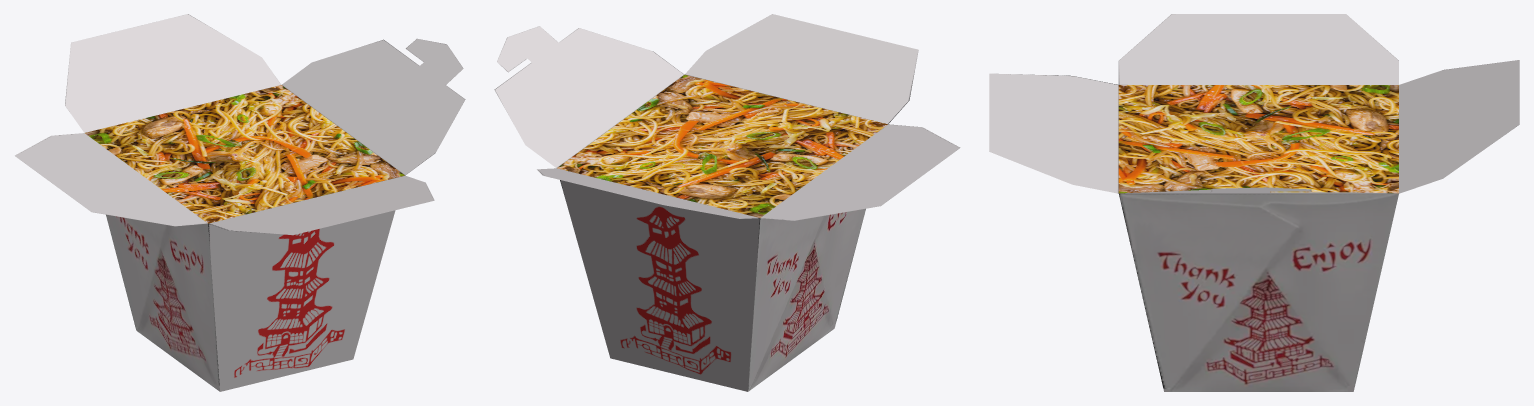
Rendered from takeout-container.glb.
The picture shows the model from 3 angles, left to right: view 1: azimuth 30°, elevation 25°; view 2: azimuth 150°, elevation 25°; view 3: azimuth 270°, elevation 25°; orthographic projection. The views are drawn at different scales.
Visible parts, largest first — view 1: Cube; view 2: Cube; view 3: Cube.
Part boxes in pixels (bbox=[...]): Cube: bbox=[15, 14, 465, 391]; Cube: bbox=[494, 14, 960, 391]; Cube: bbox=[989, 14, 1519, 391].
Bounding box in the file's own units: 5.96 × 3.56 × 6.09.
Materials: 1 (1 with a texture image).
